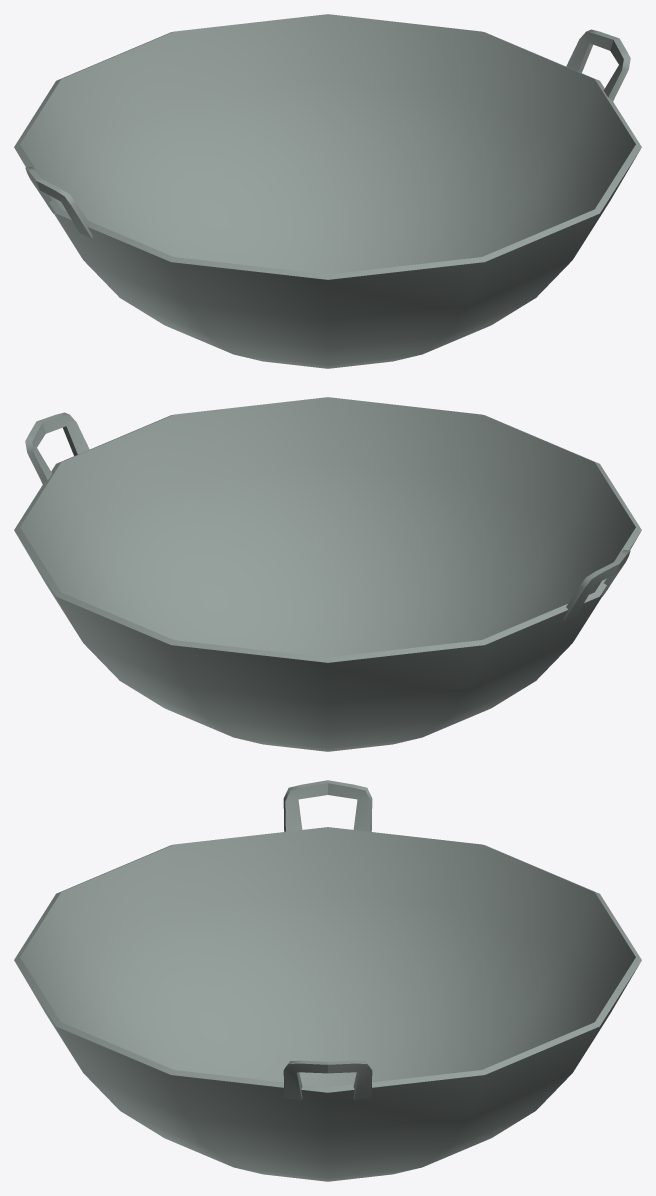
File: kuali.fbx
The picture shows the model from 3 angles, top to bottom: view 1: azimuth 30°, elevation 25°; view 2: azimuth 150°, elevation 25°; view 3: azimuth 270°, elevation 25°; orthographic projection.
Visible parts, largest first — view 1: kuali; view 2: kuali; view 3: kuali.
Part boxes in pixels (left/top/right/bottom): kuali: left=14, top=14, right=641, bottom=368; kuali: left=14, top=397, right=641, bottom=751; kuali: left=14, top=780, right=641, bottom=1181.
Size of the model in its own units: 198 by 73.93 by 185.
